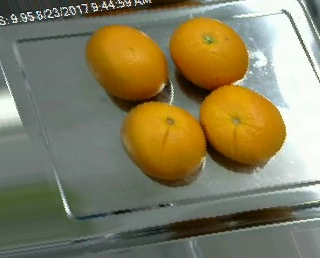Orange: (200, 85, 286, 166), (120, 101, 206, 180), (86, 25, 168, 100), (169, 16, 249, 87)
